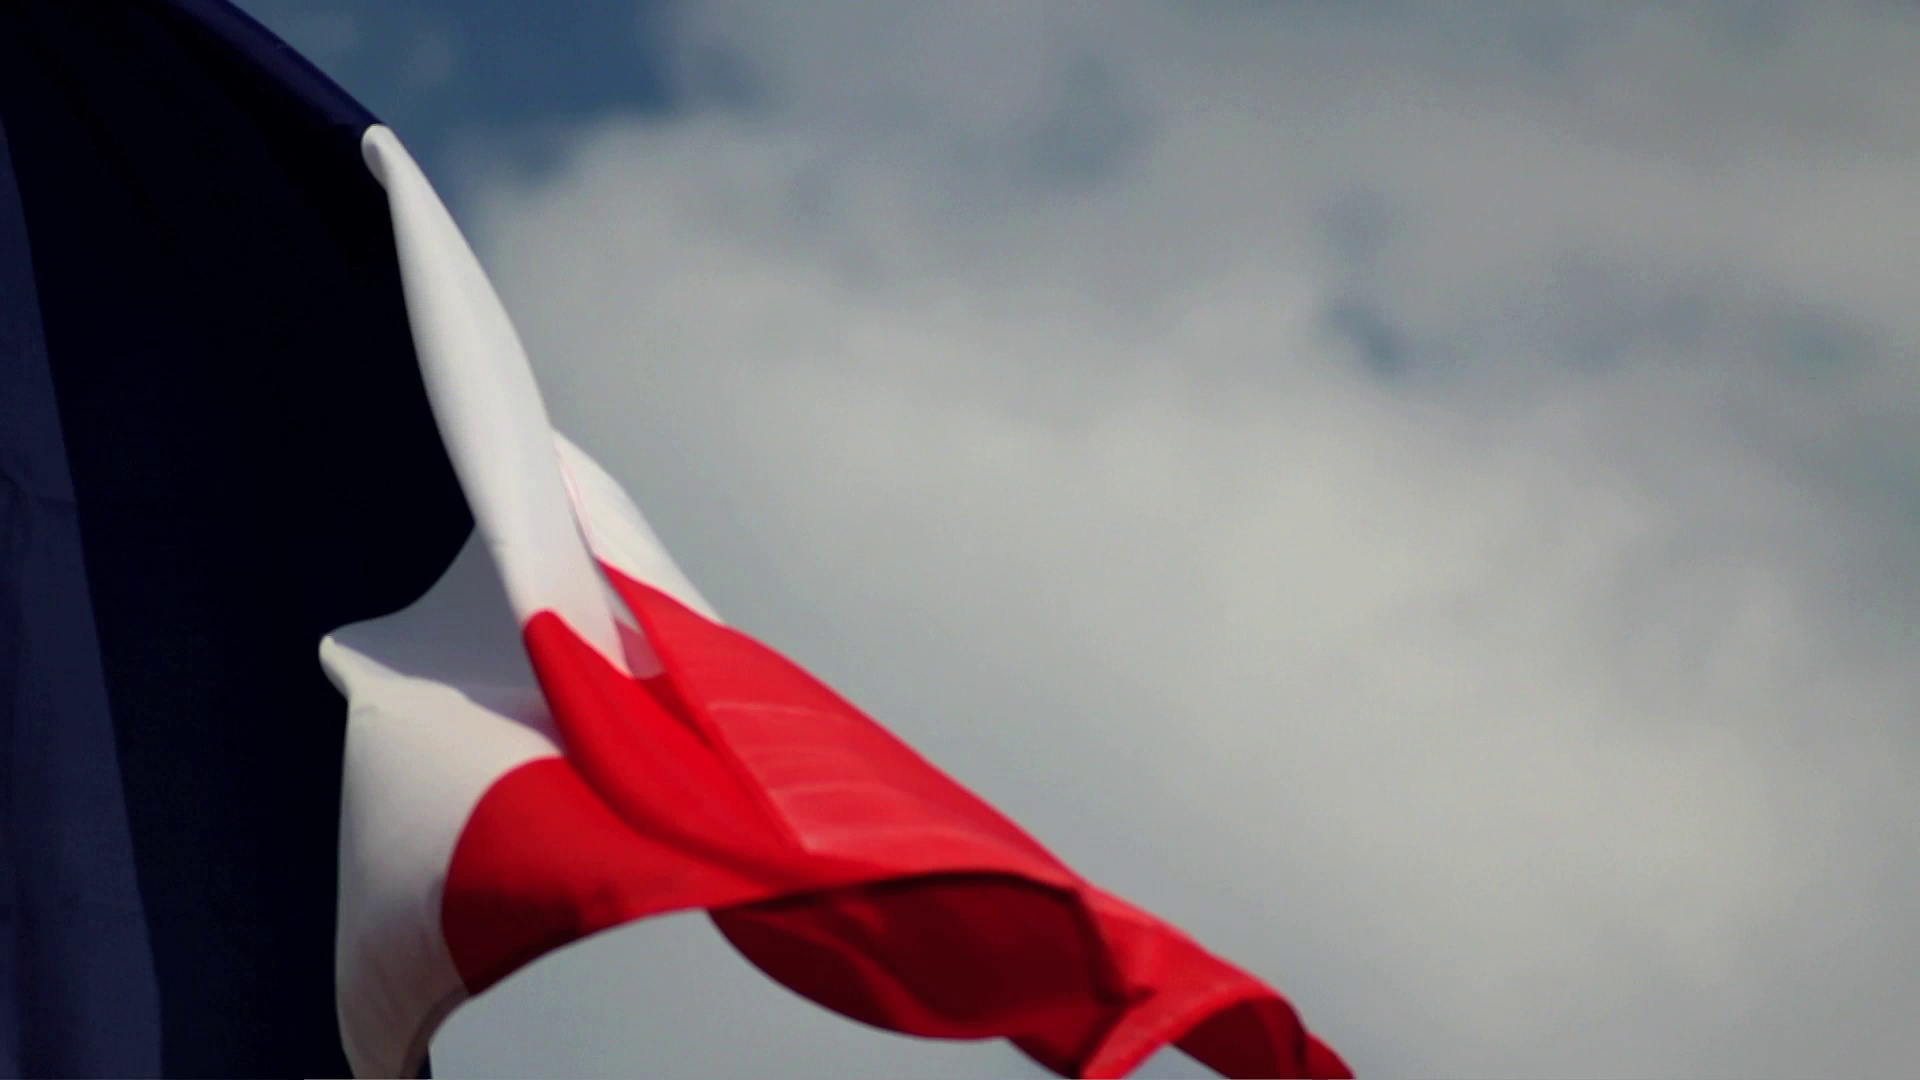French Flag: (1, 1, 1356, 1076)
